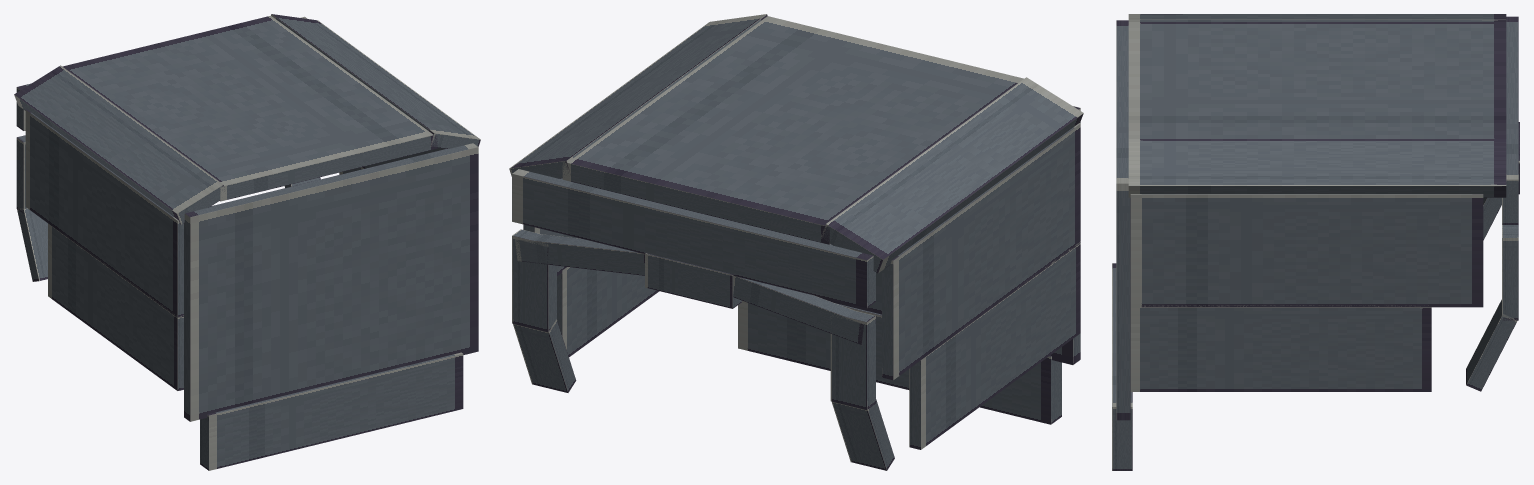
File: workpiece_xuantie_helmet_tempered.obj
The picture shows the model from 3 angles, left to right: view 1: azimuth 30°, elevation 25°; view 2: azimuth 150°, elevation 25°; view 3: azimuth 270°, elevation 25°; orthographic projection. The views are drawn at different scales.
Visible parts, largest first — view 1: geometry; view 2: geometry; view 3: geometry.
Boxes of the visible parts, x1=… form: geometry: x1=14, y1=14, x2=480, y2=470; geometry: x1=509, y1=14, x2=1083, y2=470; geometry: x1=1112, y1=14, x2=1519, y2=470.
Bounding box in the file's own units: 0.6127 × 0.5312 × 0.6144.
